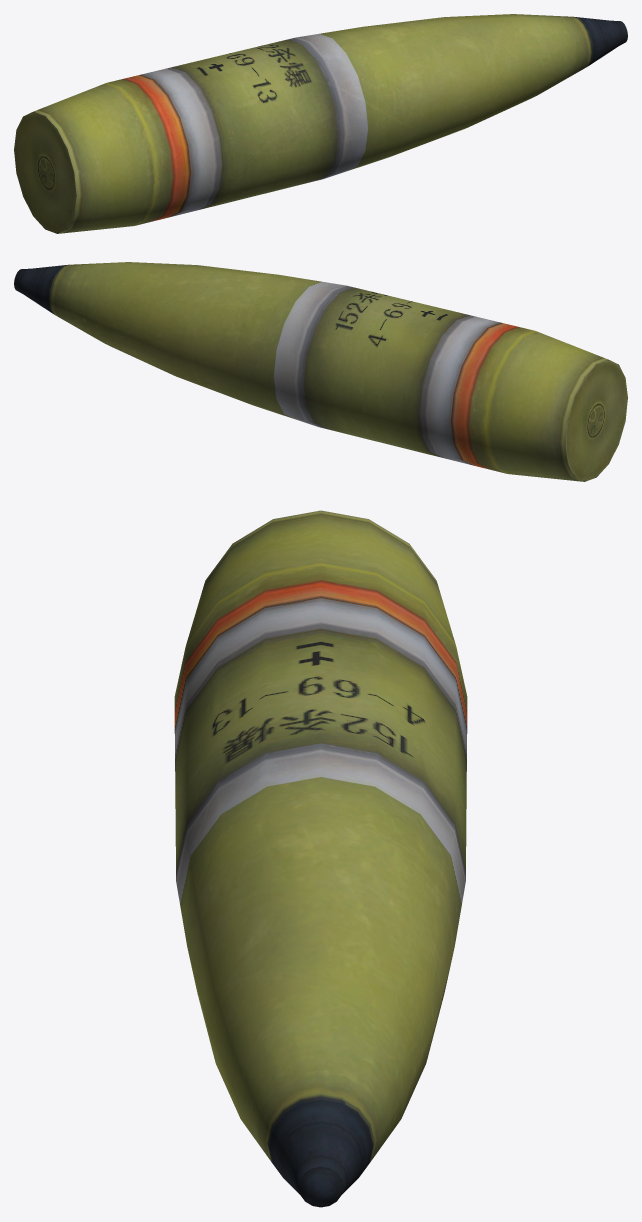
3 views of the same model, one above another, from view 1: azimuth 30°, elevation 25°; view 2: azimuth 150°, elevation 25°; view 3: azimuth 270°, elevation 25° (orthographic). The views are drawn at different scales.
Parts seen in each view (by area): view 1: AT_03_LOD0; view 2: AT_03_LOD0; view 3: AT_03_LOD0.
Part boxes in pixels (x1,y1,x2,y2): AT_03_LOD0: (14, 14, 627, 233); AT_03_LOD0: (14, 262, 627, 481); AT_03_LOD0: (174, 510, 467, 1207).
Size of the model in its own units: 7.56 by 1.66 by 1.66.
